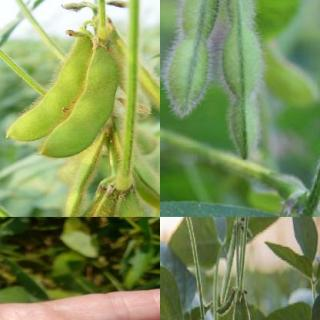soya: (40, 48, 118, 158), (5, 40, 90, 140), (163, 0, 230, 117), (223, 0, 263, 159), (60, 133, 105, 216), (36, 193, 119, 216), (136, 157, 159, 216), (219, 230, 235, 304), (140, 65, 159, 117), (242, 302, 260, 319)
